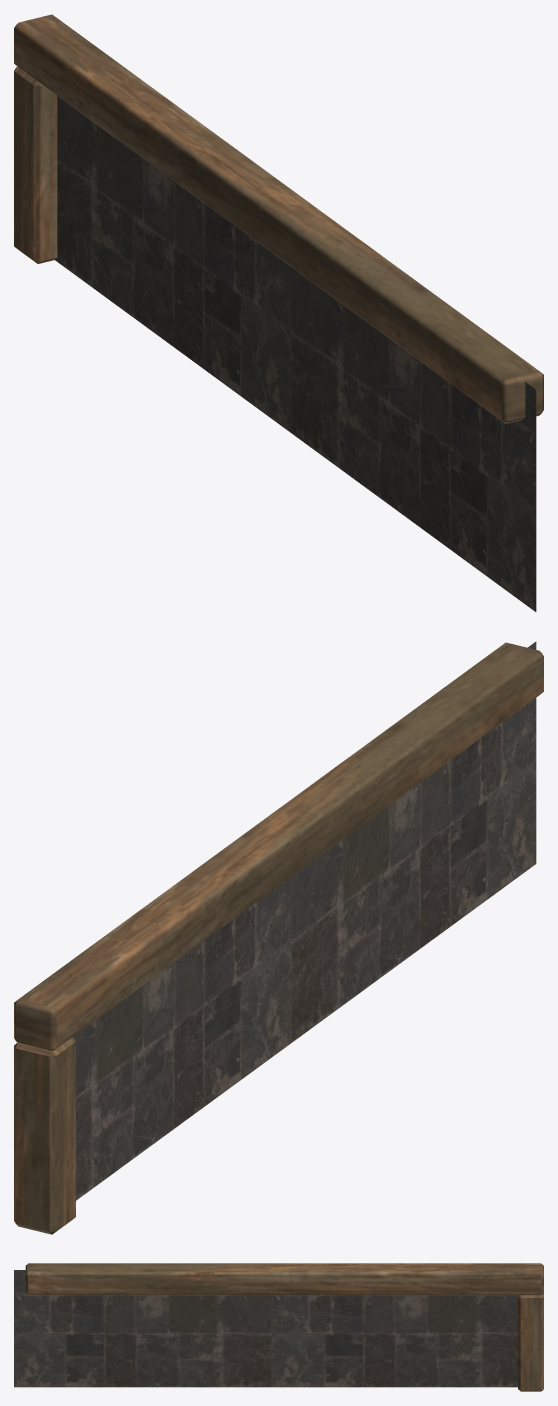
Rendered from SM_base_wall_01.fbx.
The picture shows the model from 3 angles, top to bottom: view 1: azimuth 30°, elevation 25°; view 2: azimuth 150°, elevation 25°; view 3: azimuth 270°, elevation 25°; orthographic projection. The views are drawn at different scales.
Visible parts, largest first — view 1: SM_base_wall_01_LOD0; view 2: SM_base_wall_01_LOD0; view 3: SM_base_wall_01_LOD0.
Part boxes in pixels (x1,y1,x2,y2): SM_base_wall_01_LOD0: [14, 14, 543, 611]; SM_base_wall_01_LOD0: [14, 641, 543, 1234]; SM_base_wall_01_LOD0: [14, 1263, 543, 1391].
Bounding box in the file's own units: 20 × 410 × 102.
Materials: 2 (2 with a texture image).
